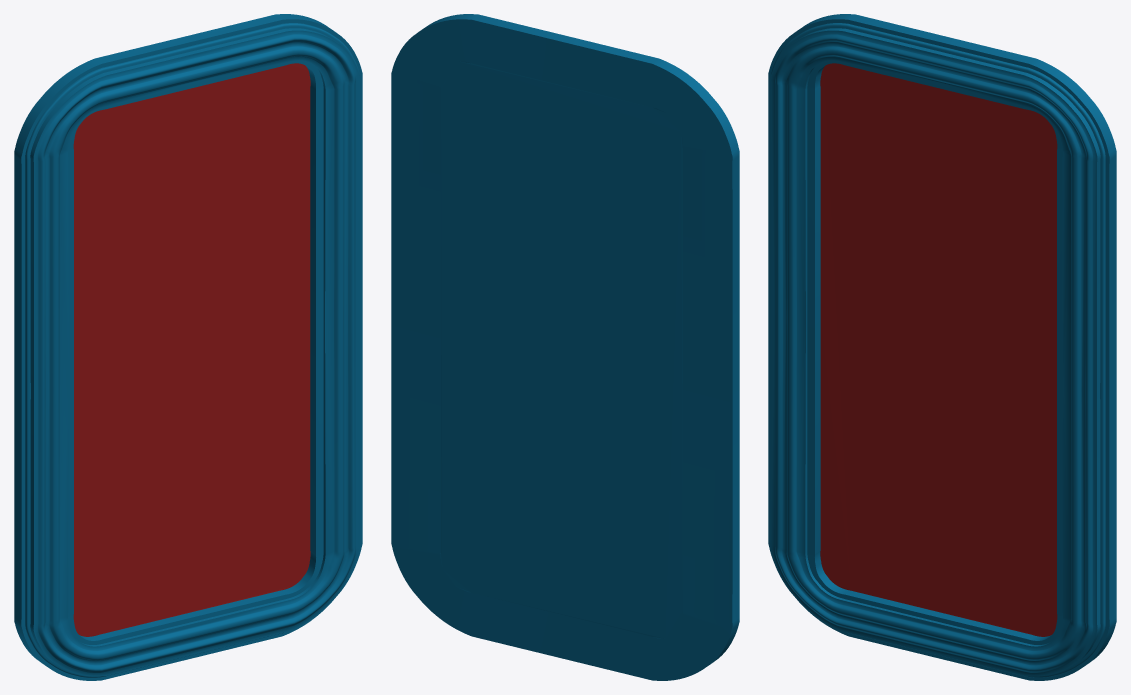
File: Mirror.fbx
3 renders of one model, left to right at view 1: azimuth 30°, elevation 25°; view 2: azimuth 150°, elevation 25°; view 3: azimuth 330°, elevation 25°, orthographic.
Visible parts, largest first — view 1: Mirror; view 2: Mirror; view 3: Mirror.
Part boxes in pixels (x1,y1,x2,y2): Mirror: [14, 14, 362, 680]; Mirror: [391, 14, 739, 680]; Mirror: [768, 14, 1116, 680].
Bounding box in the file's own units: 120 × 208 × 8.37.
